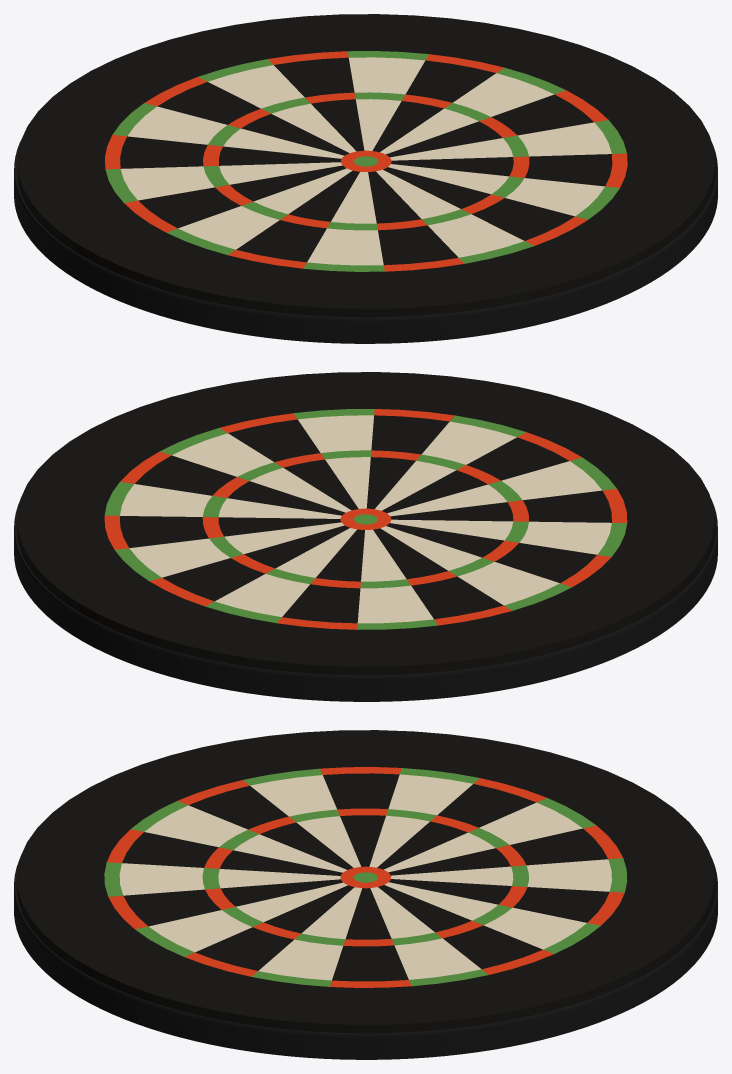
The model's file is dartBoard.fbx.
3 renders of one model, top to bottom at view 1: azimuth 30°, elevation 25°; view 2: azimuth 150°, elevation 25°; view 3: azimuth 270°, elevation 25°, orthographic.
Parts seen in each view (by area): view 1: board, cover; view 2: board, cover; view 3: board, cover.
Part boxes in pixels (<box>): board: <box>17,14,714,317</box>; cover: <box>14,141,717,343</box>; board: <box>17,372,714,675</box>; cover: <box>14,498,717,701</box>; board: <box>17,730,714,1033</box>; cover: <box>14,855,717,1059</box>.
Bounding box in the file's own units: 168 × 8.86 × 168.
